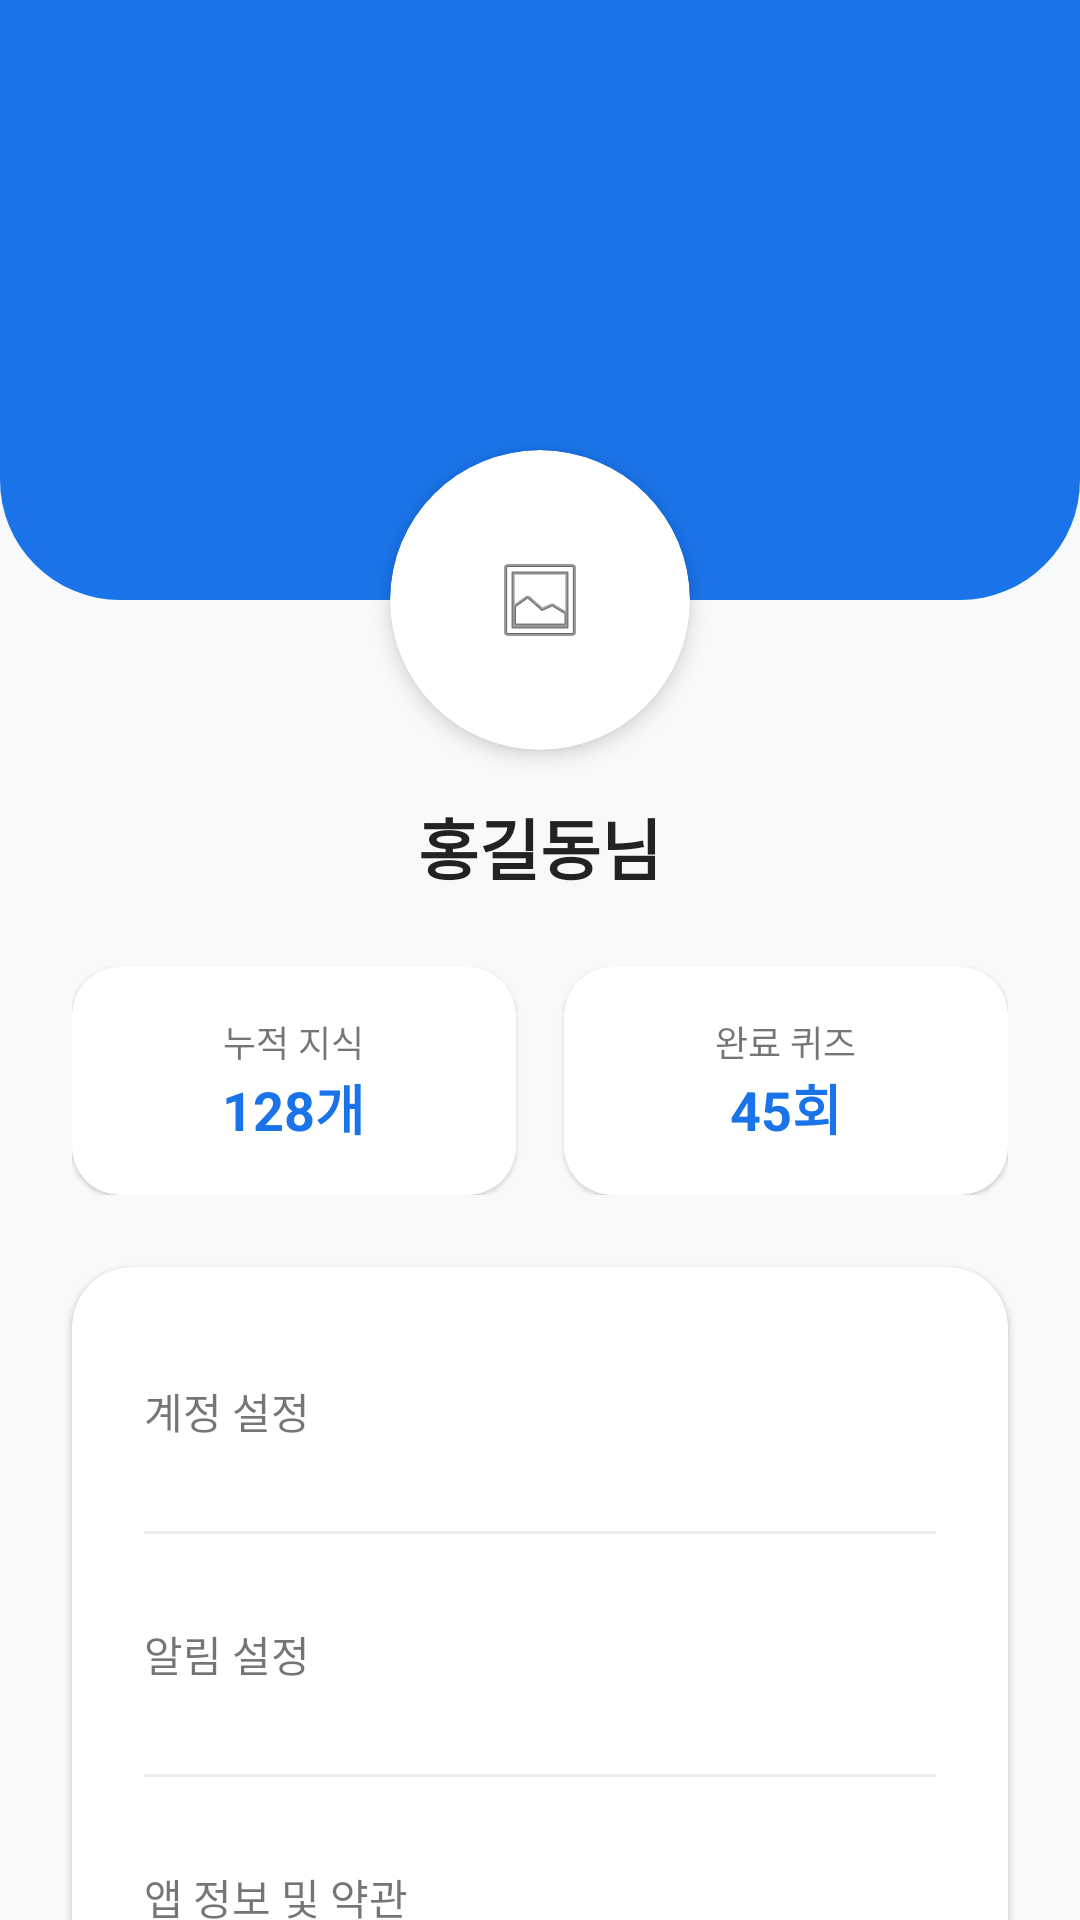

Where to tap for icons on this 1080w x 1920h app screen, as point (x, y):
gallery: point (540, 600)
